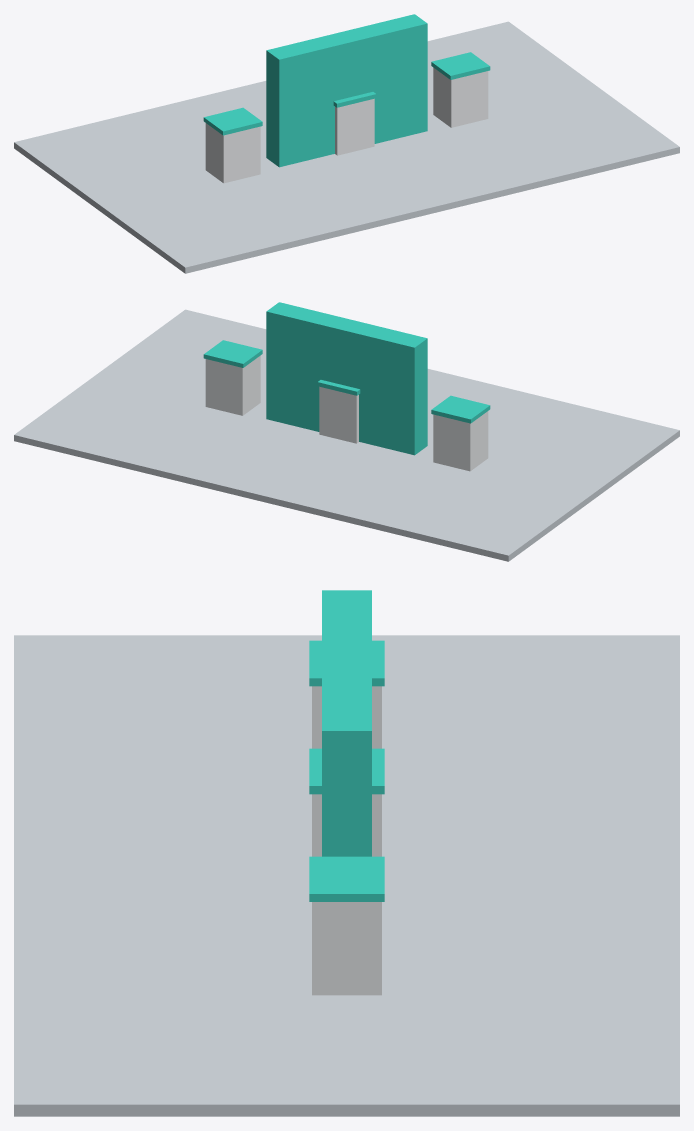
3 renders of one model, top to bottom at view 1: azimuth 30°, elevation 25°; view 2: azimuth 150°, elevation 25°; view 3: azimuth 270°, elevation 25°, orthographic. The views are drawn at different scales.
Parts seen in each view (by area): view 1: Exhibition Booth Concept; view 2: Exhibition Booth Concept; view 3: Exhibition Booth Concept.
Part boxes in pixels (x1=…): Exhibition Booth Concept: x1=14, y1=14, x2=679, y2=273; Exhibition Booth Concept: x1=14, y1=302, x2=679, y2=561; Exhibition Booth Concept: x1=14, y1=590, x2=679, y2=1116.
Bounding box in the file's own units: 10 × 2.2 × 6.
